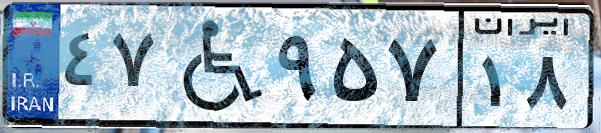1: (475, 38, 525, 113)
4: (57, 26, 110, 100)
5: (330, 28, 385, 110)
7: (385, 28, 445, 110), (110, 28, 158, 98)
8: (525, 38, 570, 115)
9: (270, 28, 330, 110)
ژ (معلولین و جانبازان): (158, 12, 270, 120)
